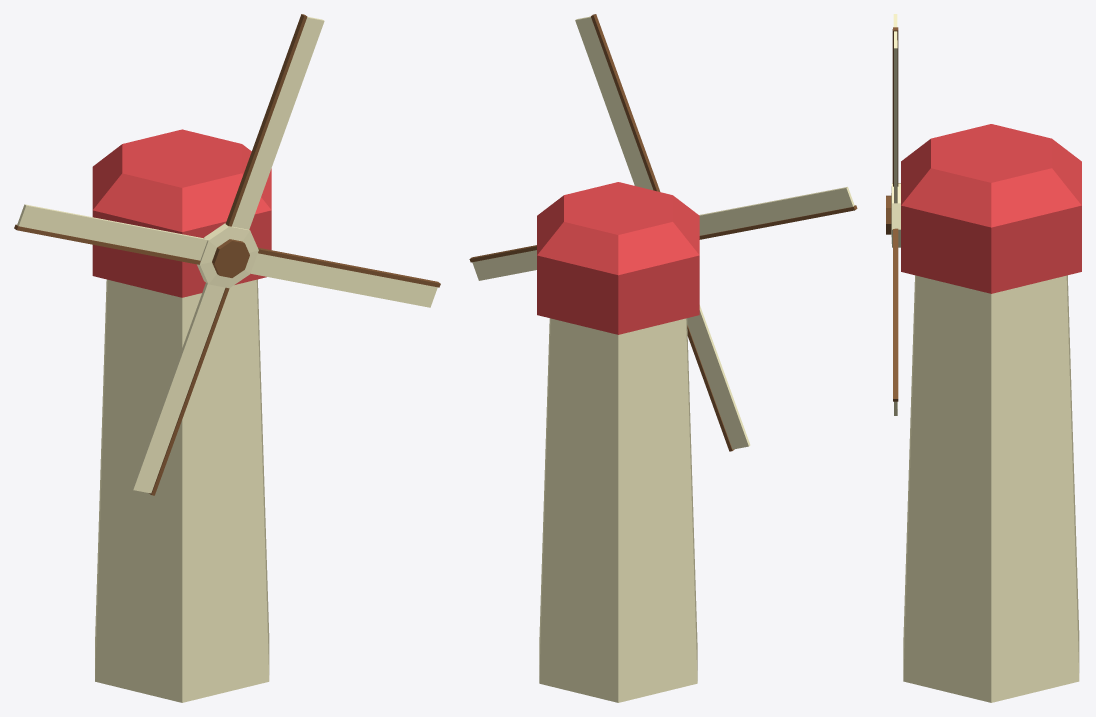
Rendered from MESHwindmill.fbx.
The picture shows the model from 3 angles, left to right: view 1: azimuth 30°, elevation 25°; view 2: azimuth 150°, elevation 25°; view 3: azimuth 270°, elevation 25°; orthographic projection. The views are drawn at different scales.
Parts seen in each view (by area): view 1: Base, Mill; view 2: Base, Mill; view 3: Base, Mill.
Part boxes in pixels (bbox=[...]): Base: bbox=[92, 129, 271, 702]; Mill: bbox=[14, 14, 440, 495]; Base: bbox=[537, 182, 699, 702]; Mill: bbox=[469, 14, 857, 451]; Base: bbox=[901, 124, 1081, 702]; Mill: bbox=[886, 14, 900, 415].
Bounding box in the file's own units: 379 × 566 × 150.
